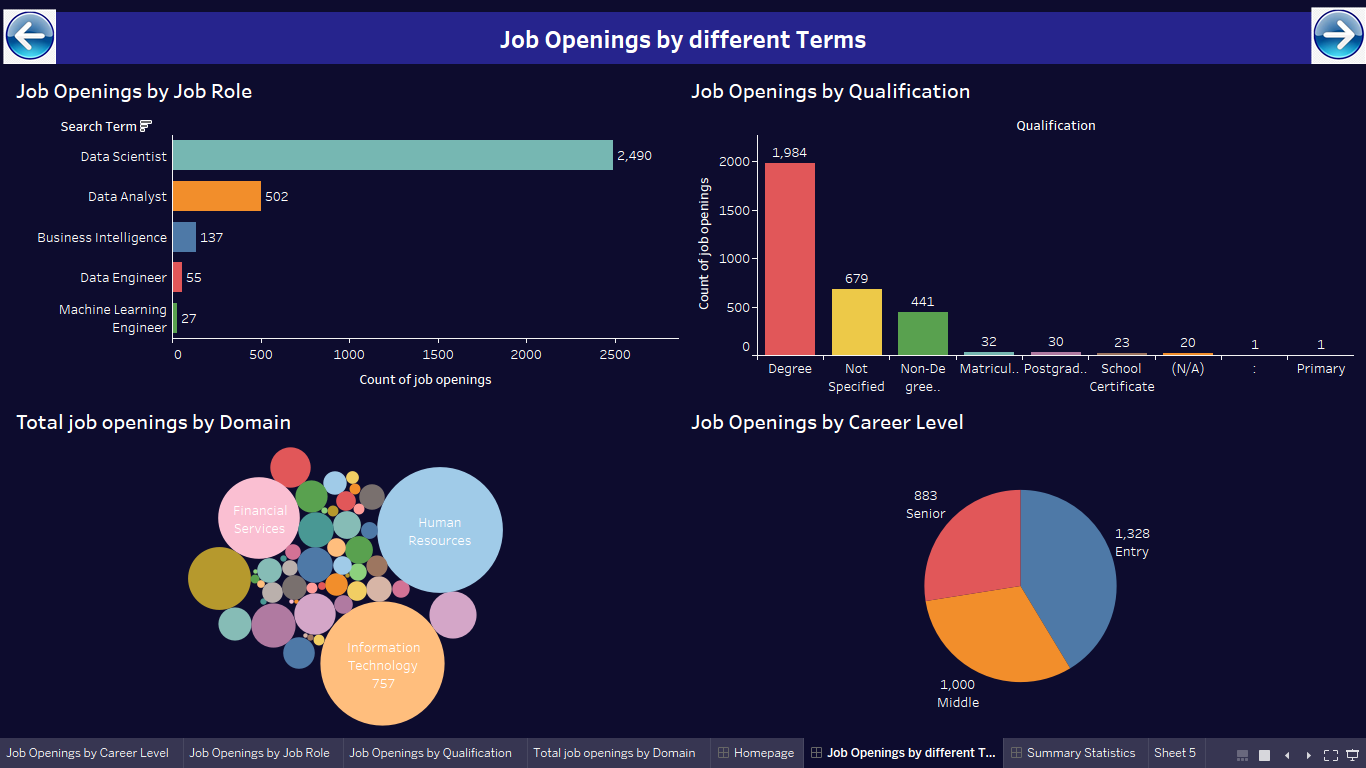

This screenshot's page, from the dashboard's own definition file:
{"tool":"tableau","page":{"name":"Job Openings by different Terms","canvas":[1000,1000],"units":"permille","ordinal":1},"visuals":[{"type":"worksheet","box":[0,0,1000,1000]},{"type":"worksheet","param":"vert","box":[6.9,13.5,986.1,973]},{"type":"worksheet","box":[6.9,13.5,986.1,101.4]},{"type":"worksheet","box":[6.9,114.9,986.1,871.6]},{"type":"worksheet","title":"Job Openings by Job Role","mark":"Automatic","rows":["Search Term"],"cols":["Calculation_752101160421584897"],"box":[6.9,114.9,493,435.7]},{"type":"worksheet","title":"Job Openings by Qualification","mark":"Automatic","rows":["Calculation_752101160421584897"],"cols":["Qualification"],"box":[499.9,114.9,493.2,435.7]},{"type":"worksheet","title":"Total job openings by Domain","mark":"Circle","box":[6.9,550.6,493,435.9]},{"type":"worksheet","title":"Job Openings by Career Level","mark":"Pie","box":[499.9,550.6,493.2,435.9]}]}

Visuals, with their boxes on the dashboard's canvas, which has no fixed pixel size, in thousandths of its width and height (x1, y1, x2, y2). These are canvas units, not pixel positions in the 1366x768 screenshot, which may show the page scaled, cropped or inside an application window:
worksheet: 0:0:1000:1000
worksheet: 7:14:993:986
worksheet: 7:14:993:115
worksheet: 7:115:993:986
"Job Openings by Job Role" worksheet: 7:115:500:551
"Job Openings by Qualification" worksheet: 500:115:993:551
"Total job openings by Domain" worksheet (Circle marks): 7:551:500:986
"Job Openings by Career Level" worksheet (Pie marks): 500:551:993:986
